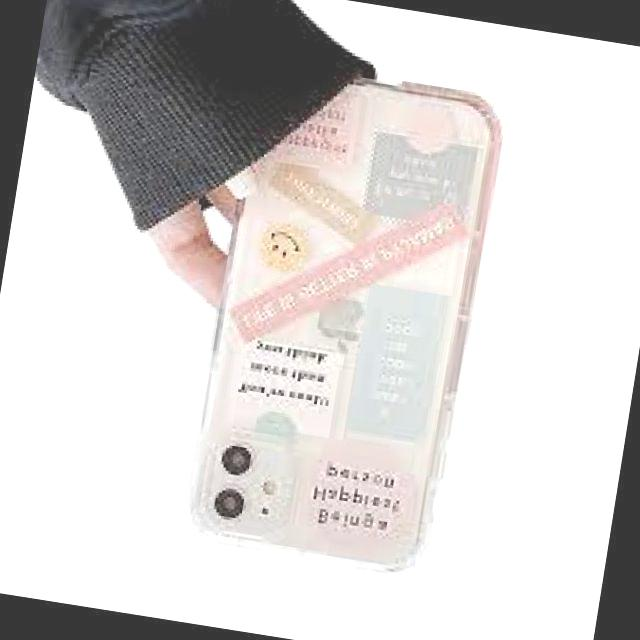lens: (204, 437, 296, 528)
phone: (187, 70, 498, 566)
